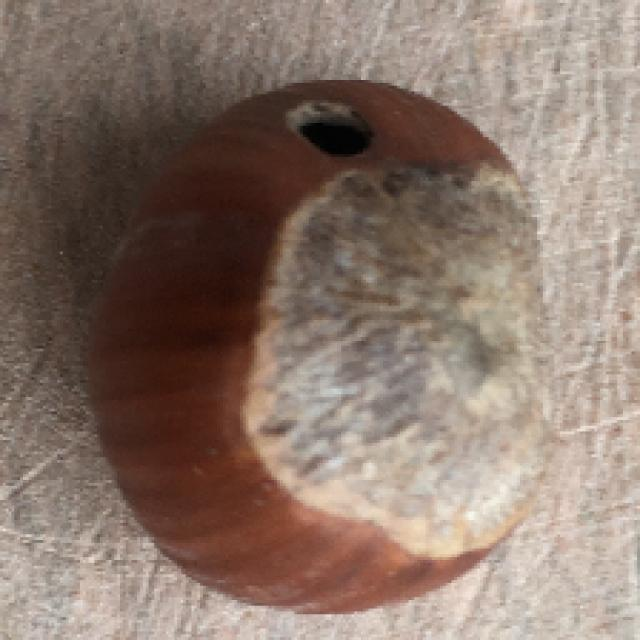damagedHazelnut: (95, 62, 552, 617)
